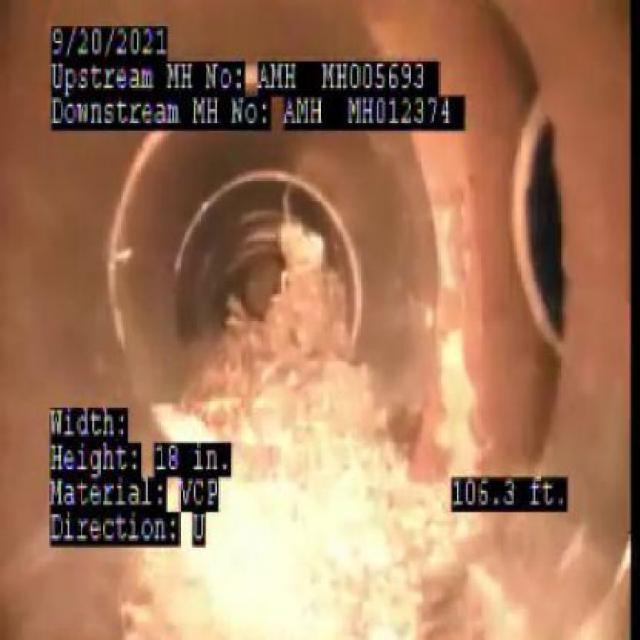Obstacle: (148, 201, 363, 434)
